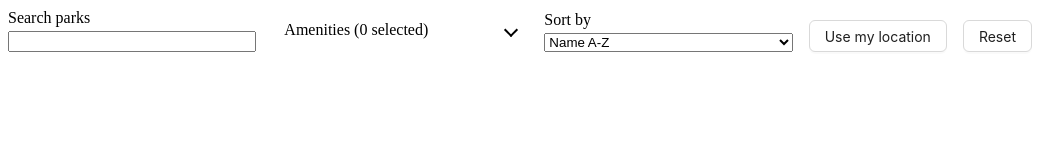
Scenario: SearchBar › accessibility › has no axe violations after location success
This screenshot has width=1049, height=160.
Click the button "Use my location" at (878, 36), box [809,20,947,52]
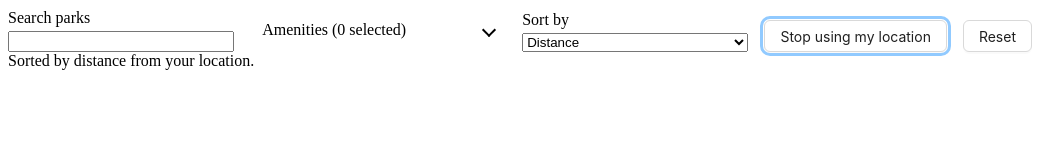
Check: the text "Stop using my location" is shown, box [780,28,931,44]
